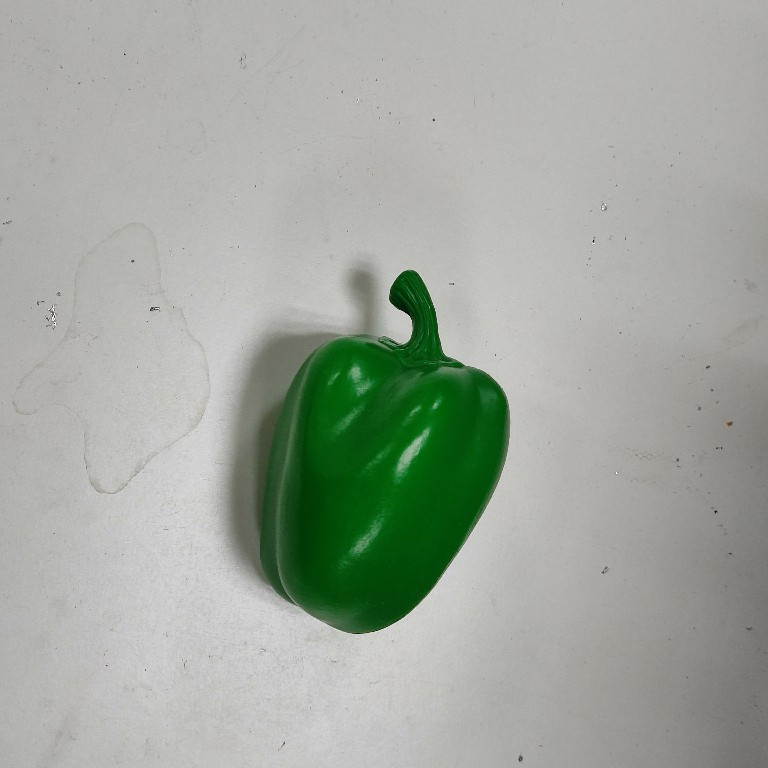fruit_pepper: (258, 266, 515, 638)
